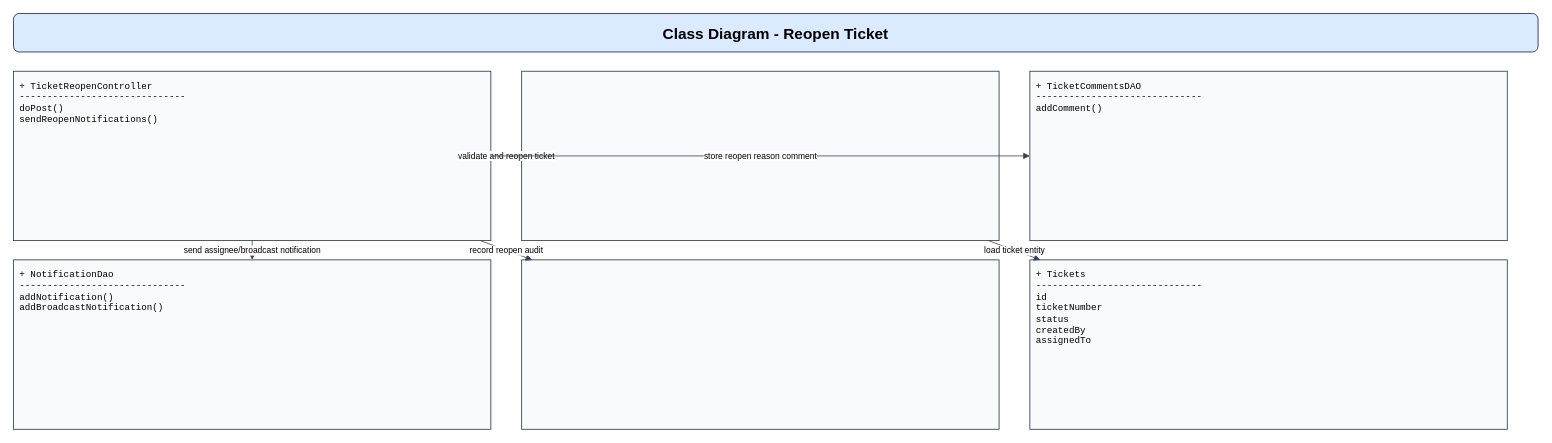
This 1552x443 diagram has some shape labels left out. The shapes that lost their labels are listed below. From the top down, each one's centre as x and y in pixels, then its label:
At [760,155]: "+ TicketDAO ------------------------------ getTicketById() reopenTicketForUser()".
At [760,344]: "+ AuditLogService ------------------------------ createAuditLog()".
